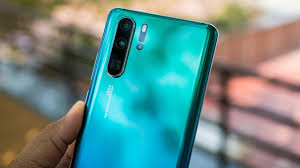huawei: (63, 6, 223, 166)
